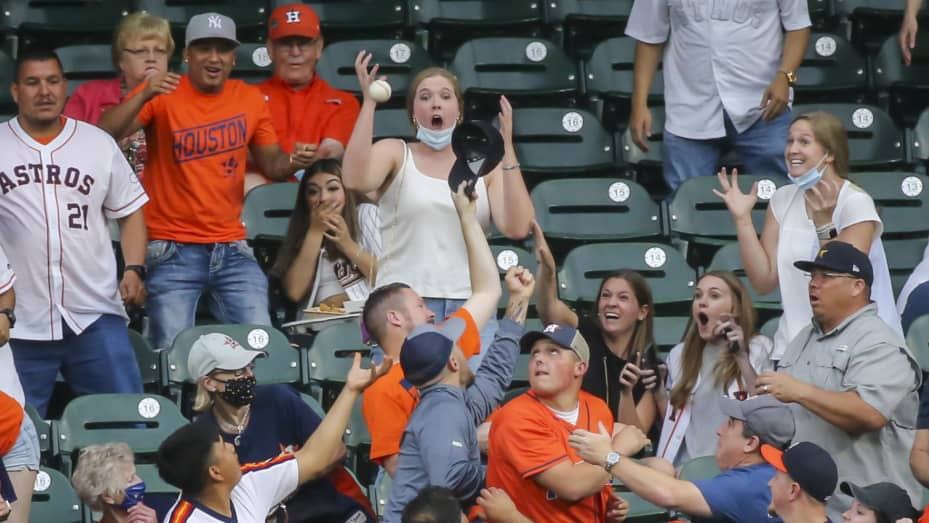with_incorrect_mask: (412, 78, 460, 150), (783, 124, 824, 188)
with_mask: (217, 358, 258, 404), (111, 462, 149, 507)
without_mask: (690, 276, 733, 342), (18, 61, 65, 119), (804, 266, 850, 325), (597, 277, 638, 332), (272, 32, 320, 78), (525, 340, 568, 390), (206, 435, 245, 489), (710, 411, 747, 466), (129, 37, 167, 83), (193, 40, 231, 85)
